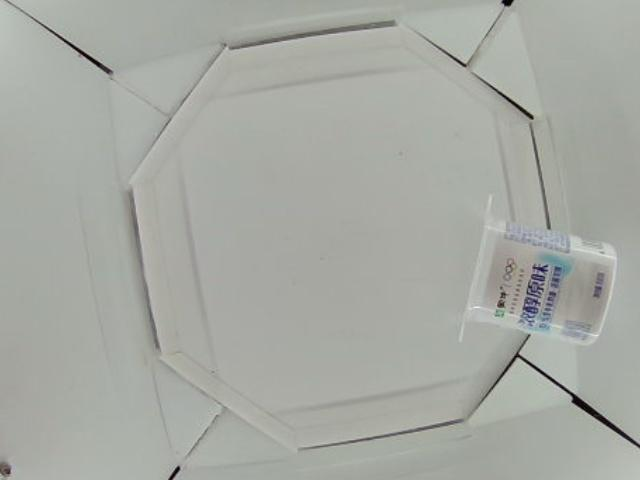Cup: (458, 194, 617, 347)
